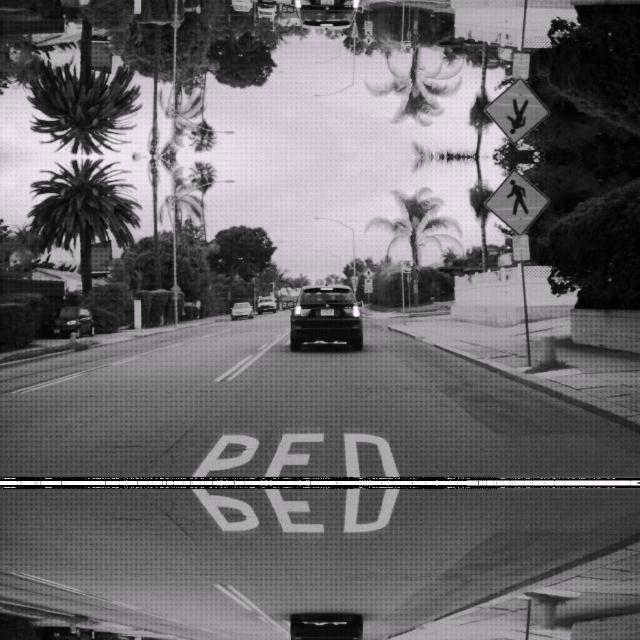pedestrianCrossing: (484, 167, 548, 233), (484, 79, 548, 145)
